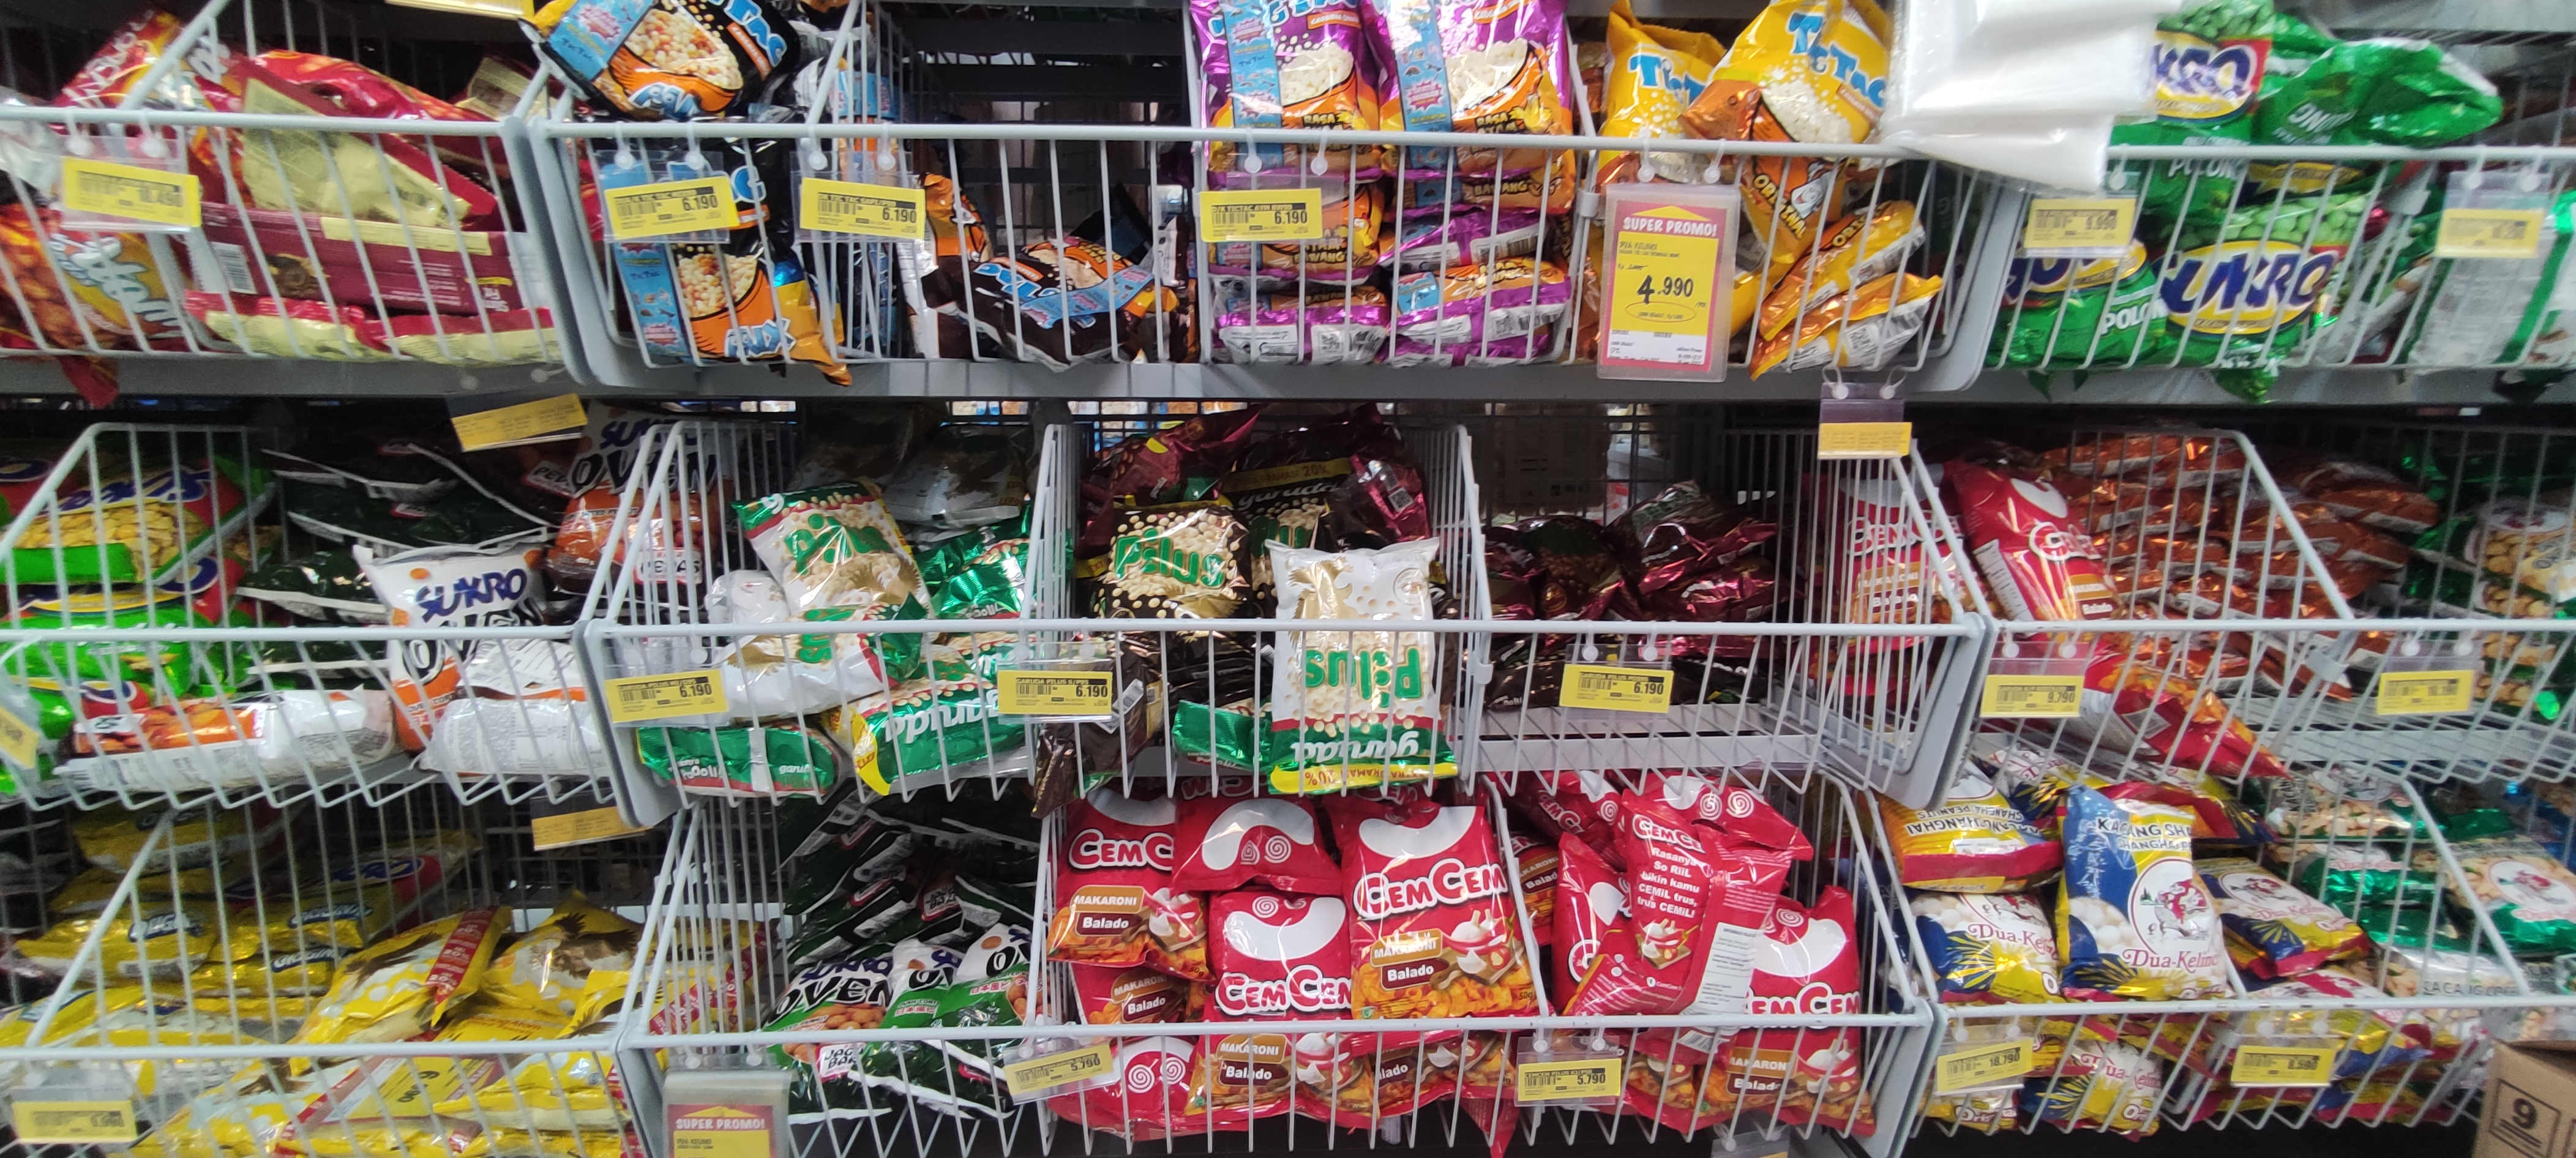90101111202100/Garuda Atom Original - 115g + 23 g: (476, 887, 775, 1027), (296, 898, 508, 1048)
90101151402100/Snack Pilus Sapi Panggang 80 + 16 g: (1069, 496, 1253, 657), (1240, 460, 1370, 539)
90101151604100/Garuda Pilus Mi Goreng 80 + 16 G: (1265, 535, 1447, 802), (741, 480, 923, 616), (710, 604, 922, 716), (838, 667, 1030, 779)
